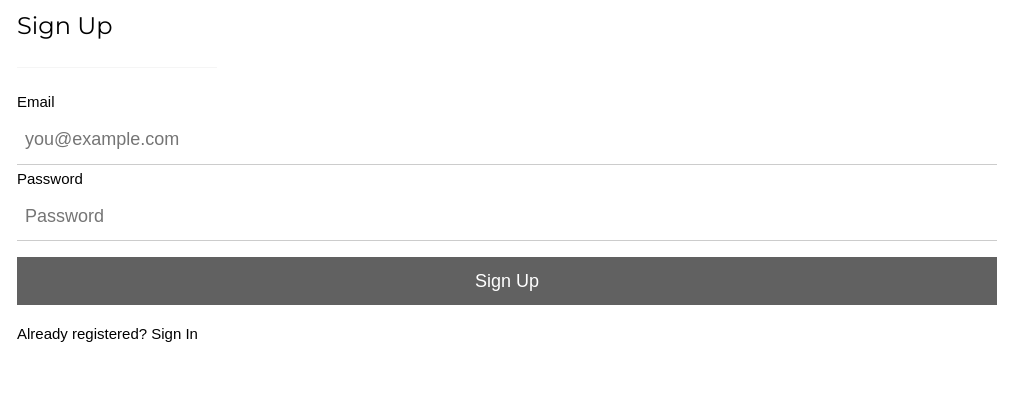
Test: Signup › should show required error when fields are empty
What coordinates should you click on to do the following:
click the button "Sign Up"
I would click on:
 (507, 281)
Its box is [17,257,997,305].
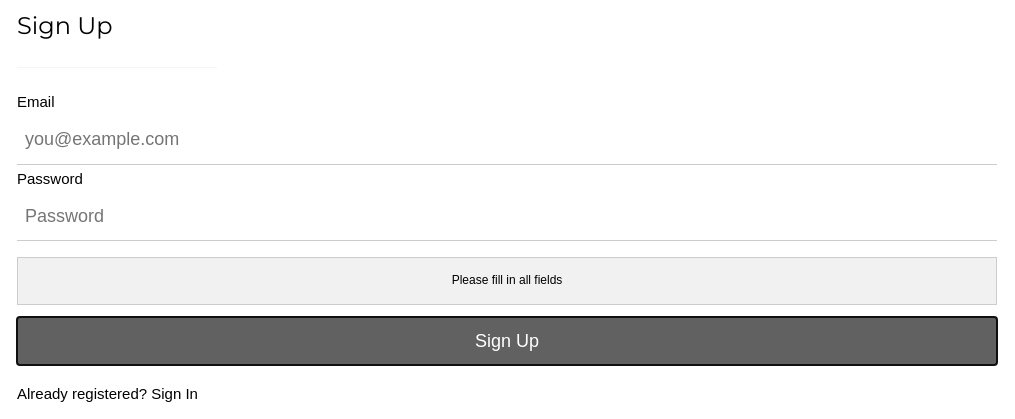
Expected: the message reads "Please fill in all fields", [452,273,562,287]
